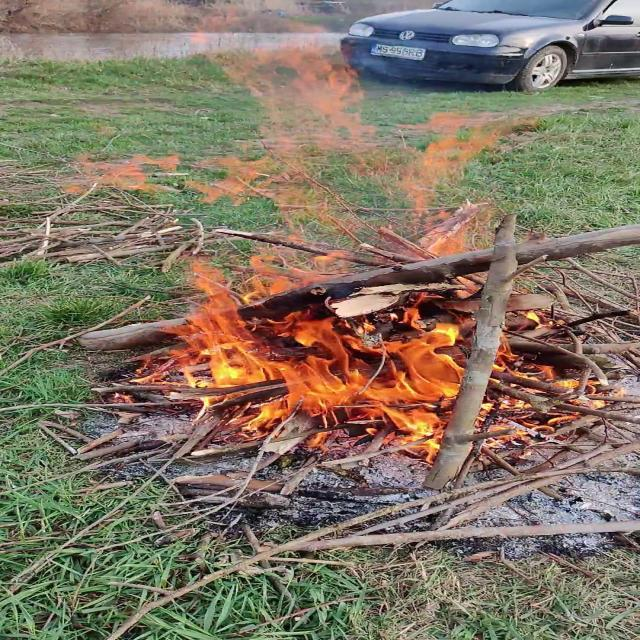Fire: (58, 28, 622, 442)
